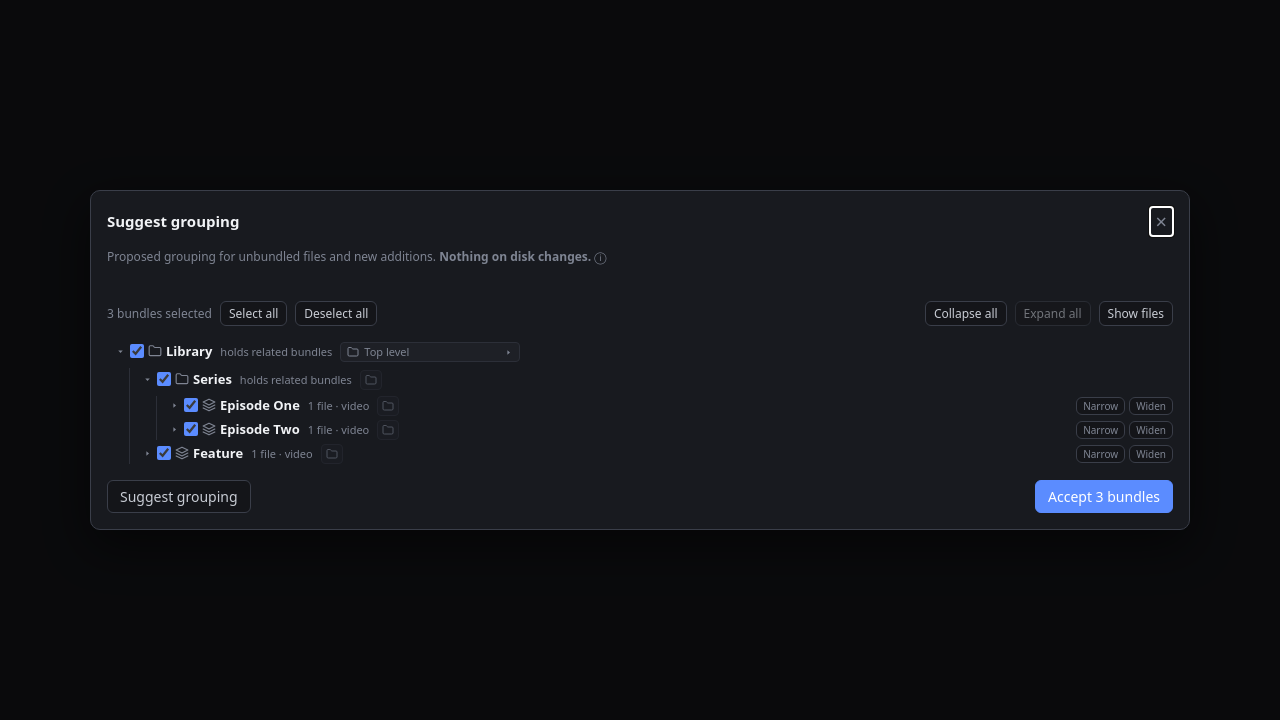
it: collapses and expands every collection and bundle
Click the button "Show files" at point(1136, 314), box [1099,301,1173,326]
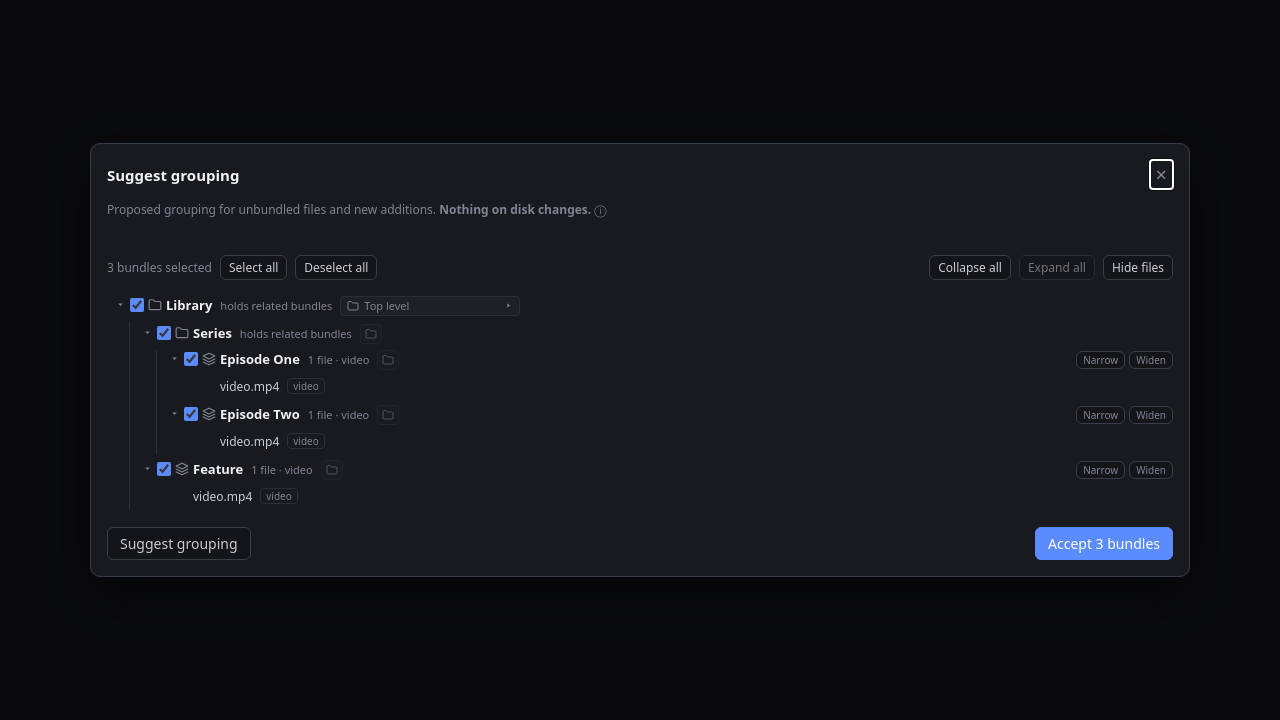
Check: the list named "Files in Episode One" is shown, box [220,378,325,395]
Click the button "Hide files" at point(1138, 267), box [1103,255,1173,280]
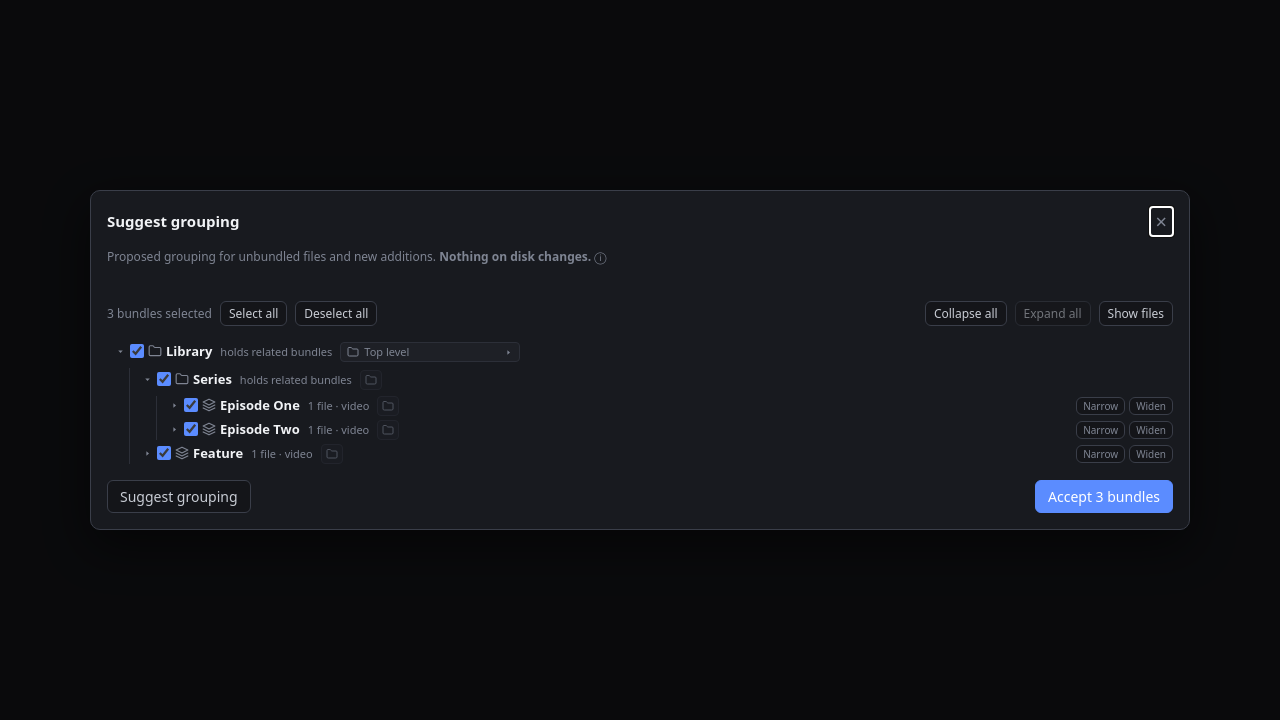
Click the button "Collapse all" at point(966, 314), box [925,301,1007,326]
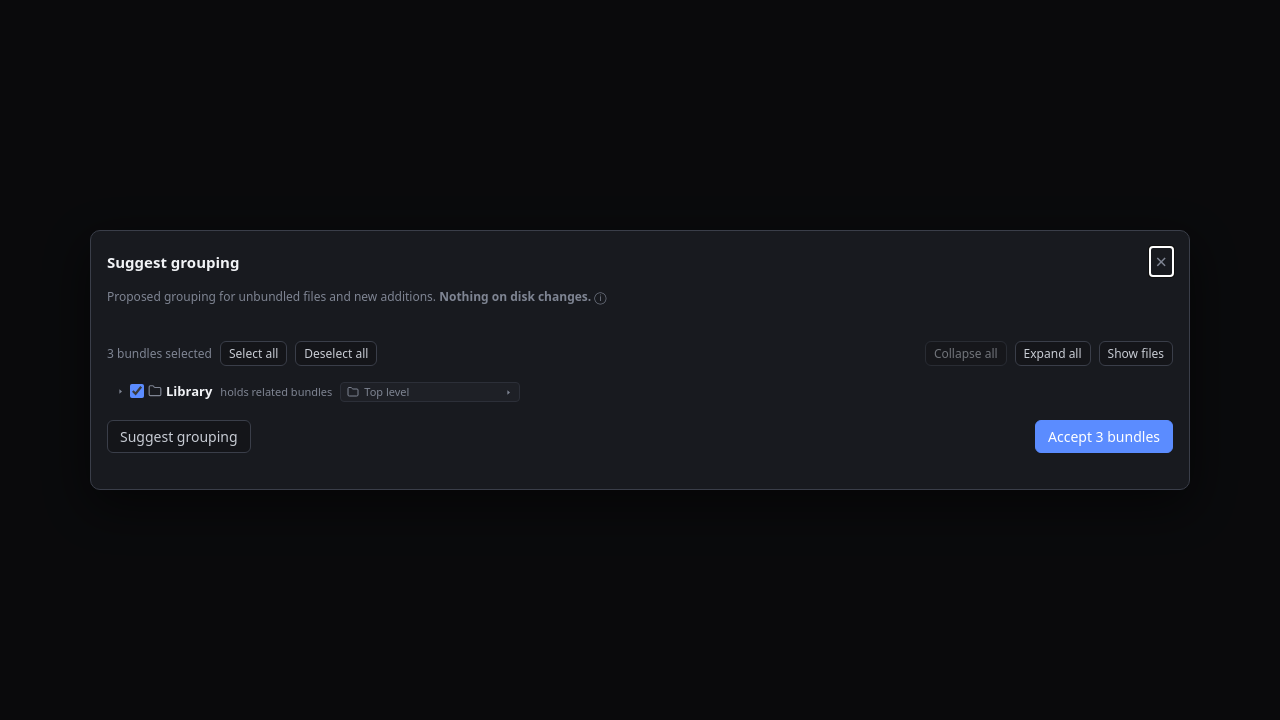
Click the button named "Expand collection suggestion Library" at point(120, 391), box [113,382,127,400]
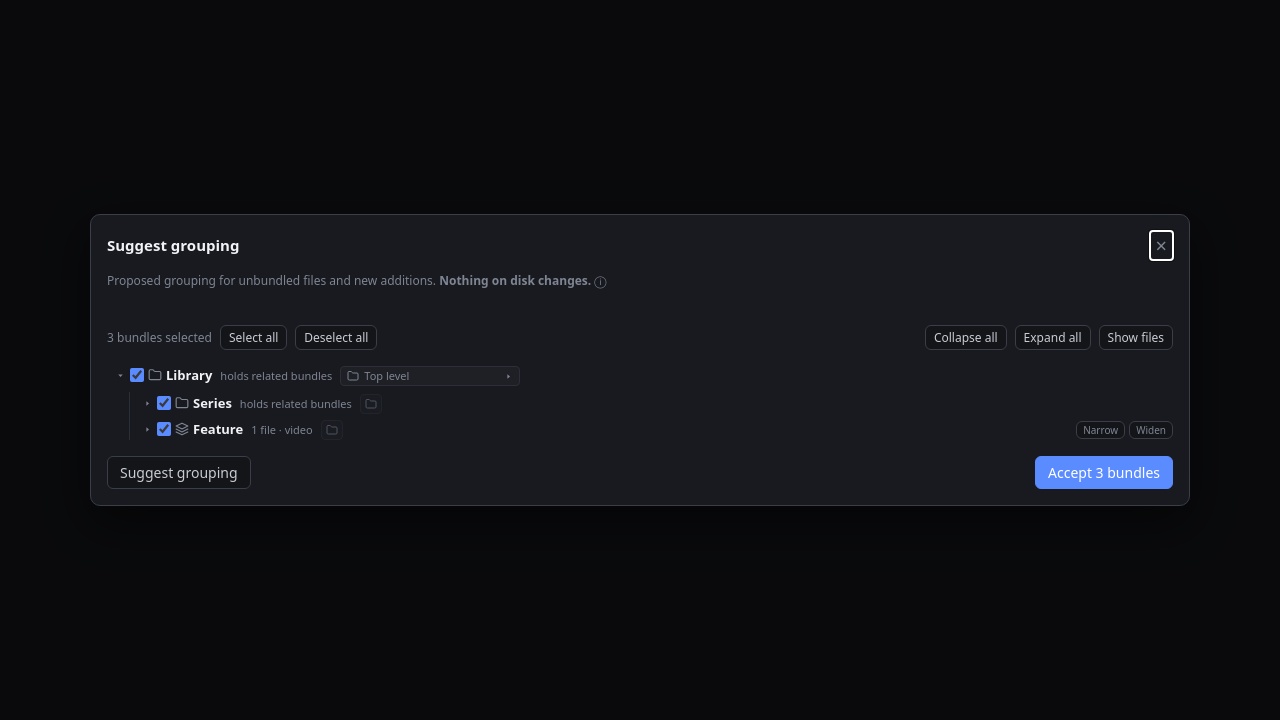
Click the button named "Expand collection suggestion Series" at point(147, 403), box [140,394,154,412]
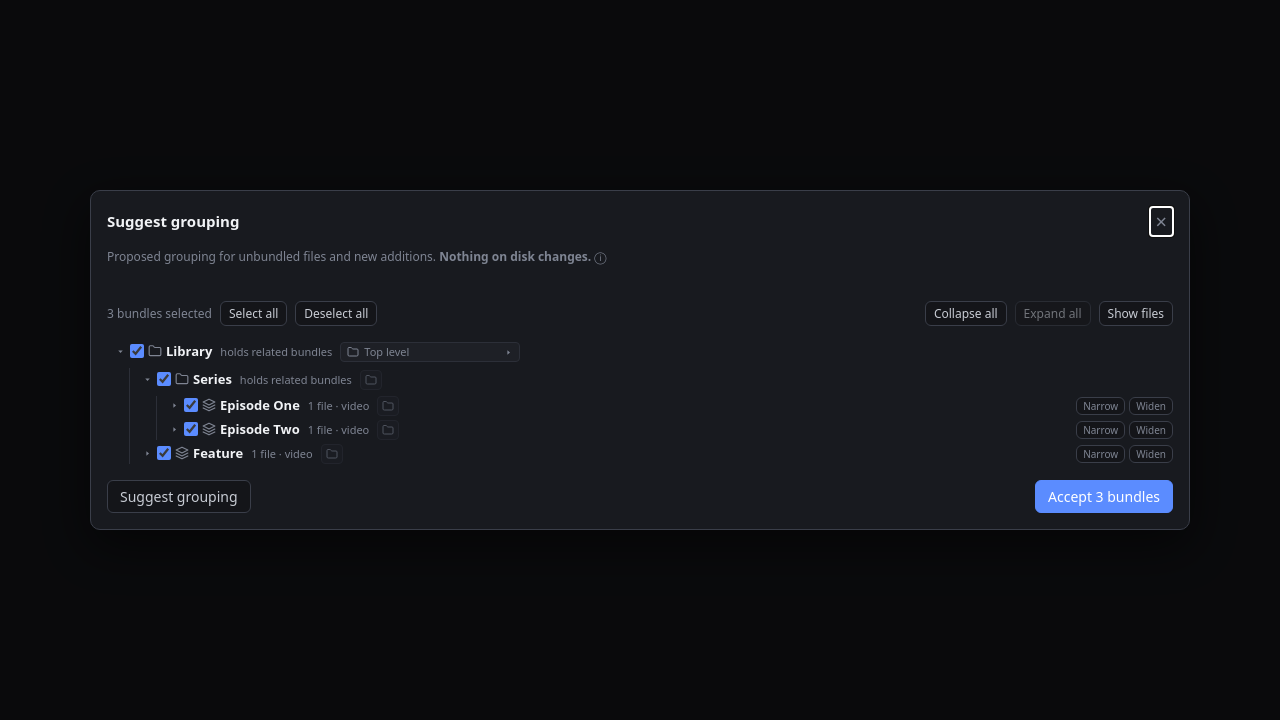
Check: the button named "Expand files in bundle suggestion Episode One" is shown, box [167,396,181,414]
Click the button "Show files" at point(1136, 314), box [1099,301,1173,326]
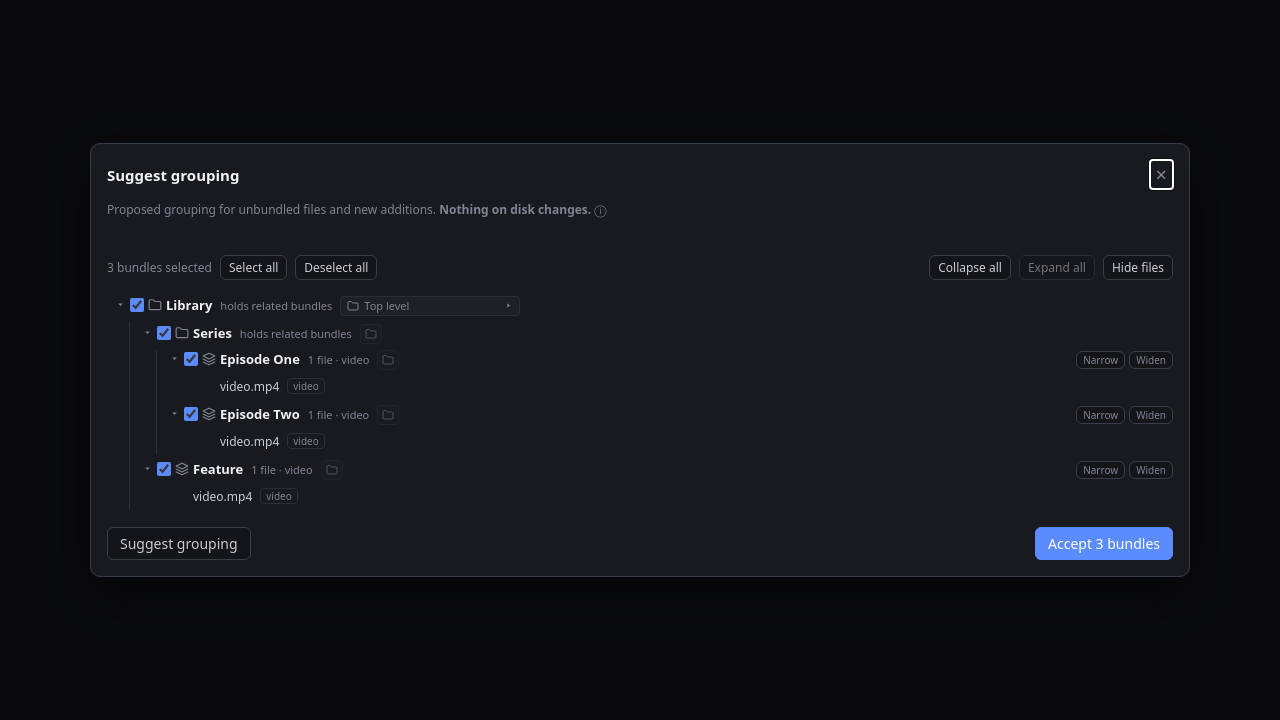
Check: the button named "Collapse collection suggestion Library" is shown, box [113,296,127,314]
Check: the button "Expand all" is disabled, box [1019,255,1095,280]
Check: the list named "Files in Episode One" is shown, box [220,378,325,395]
